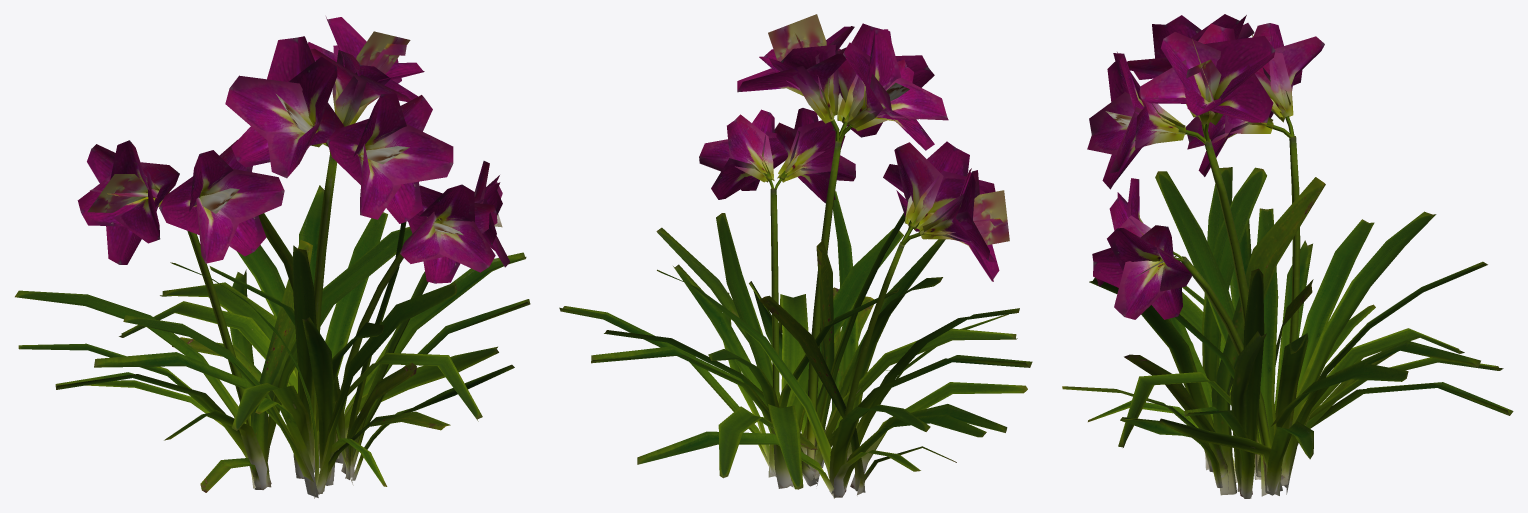
Rendered from Amaryllis_bush_normal_magenta.glb.
3 views of the same model, side by side, from view 1: azimuth 30°, elevation 25°; view 2: azimuth 150°, elevation 25°; view 3: azimuth 270°, elevation 25° (orthographic). The views are drawn at different scales.
Visible parts, largest first — view 1: bush; view 2: bush; view 3: bush.
Boxes of the visible parts, left/top/right/bottom form: bush: left=15, top=17, right=530, bottom=498; bush: left=559, top=14, right=1032, bottom=498; bush: left=1062, top=14, right=1513, bottom=498.
Bounding box in the file's own units: 2.94 × 2.74 × 2.41.
1 material, 1 textured.
